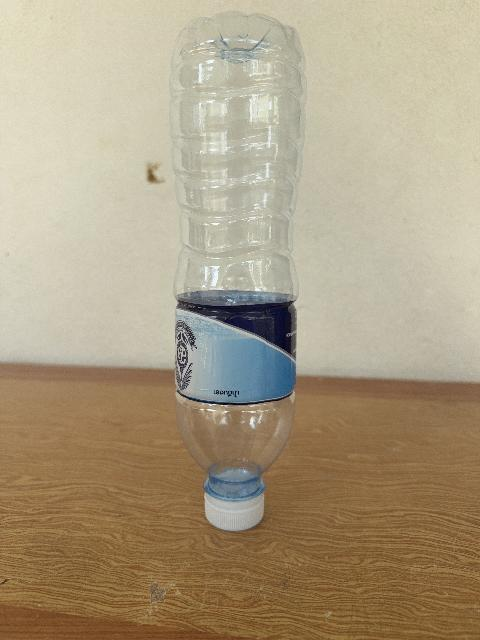bottle: (171, 12, 305, 530)
